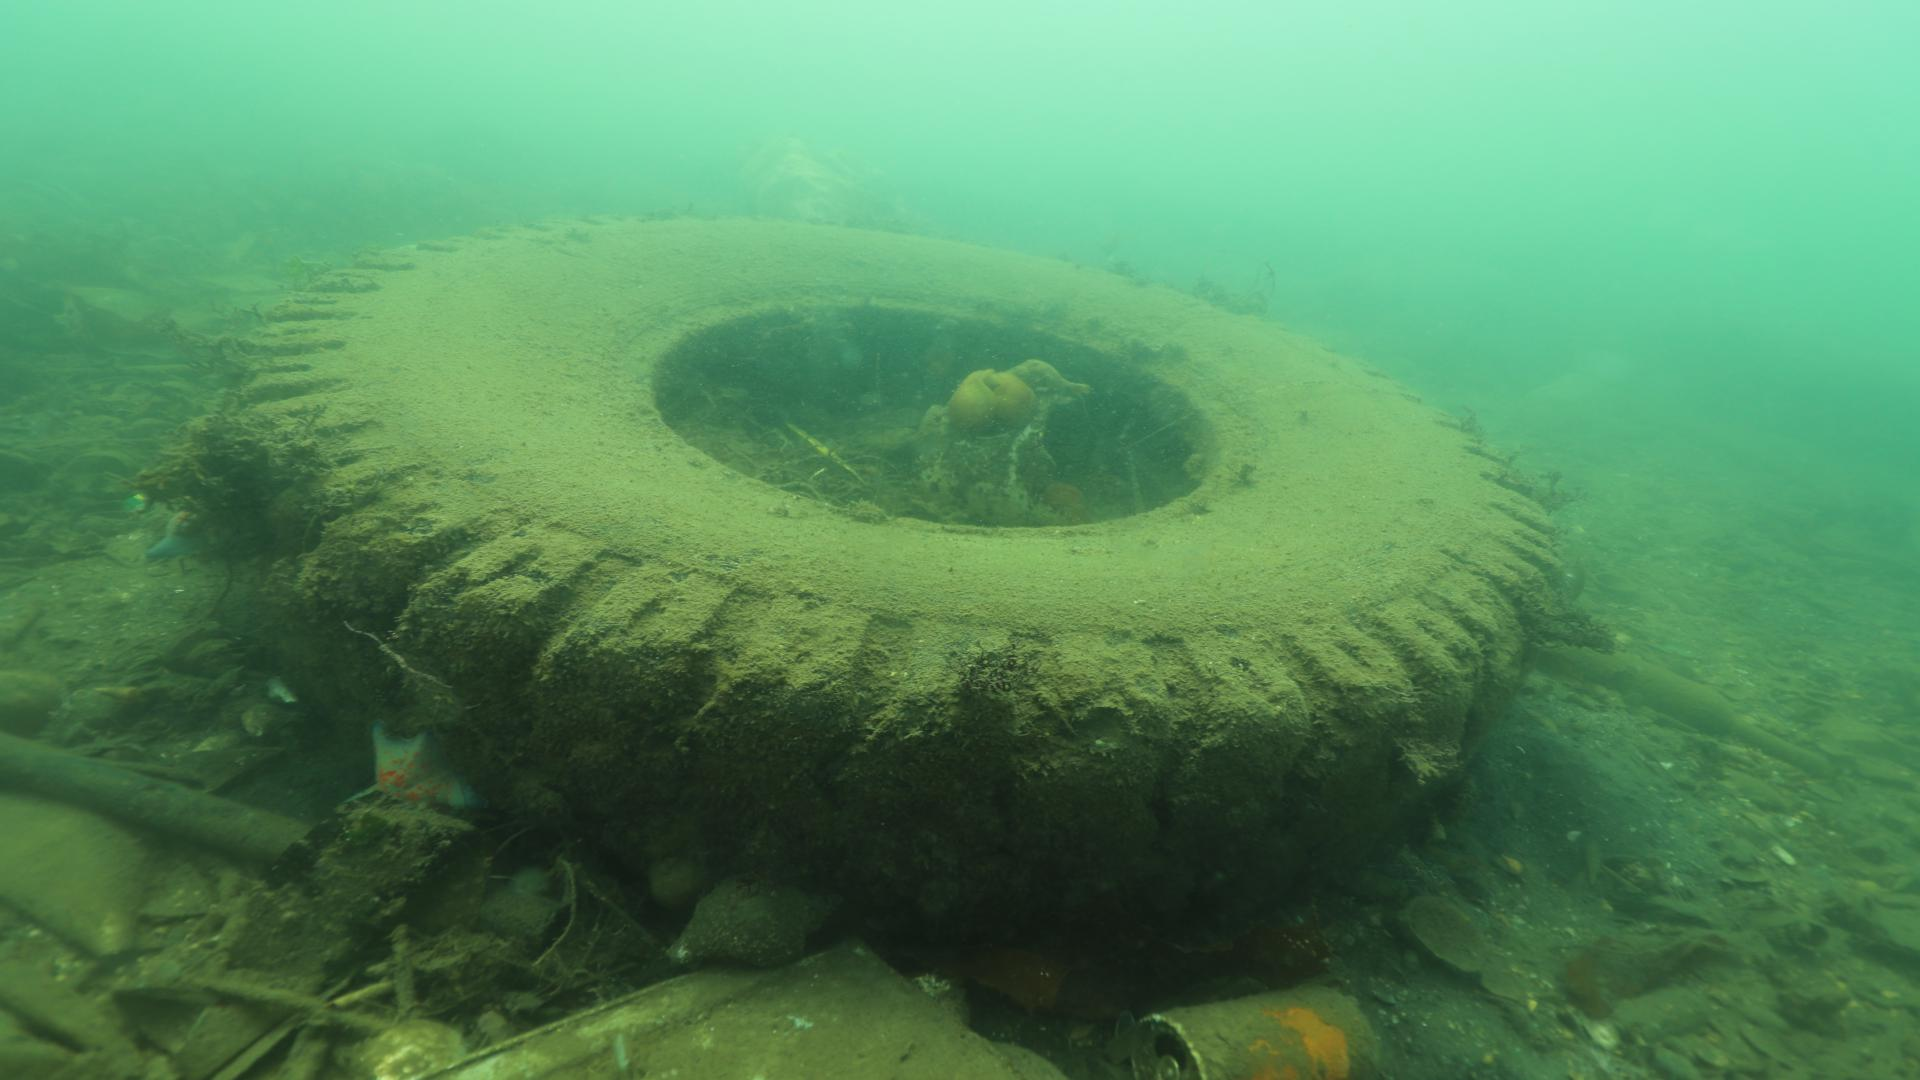tire: (244, 207, 1560, 927)
